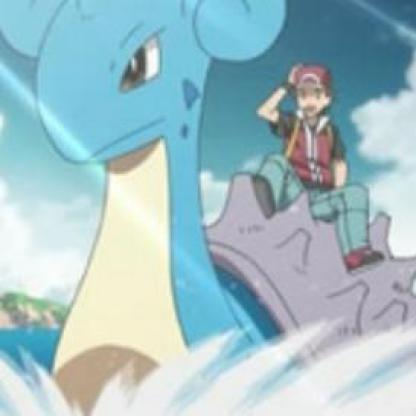Lapras: (5, 1, 280, 370)
